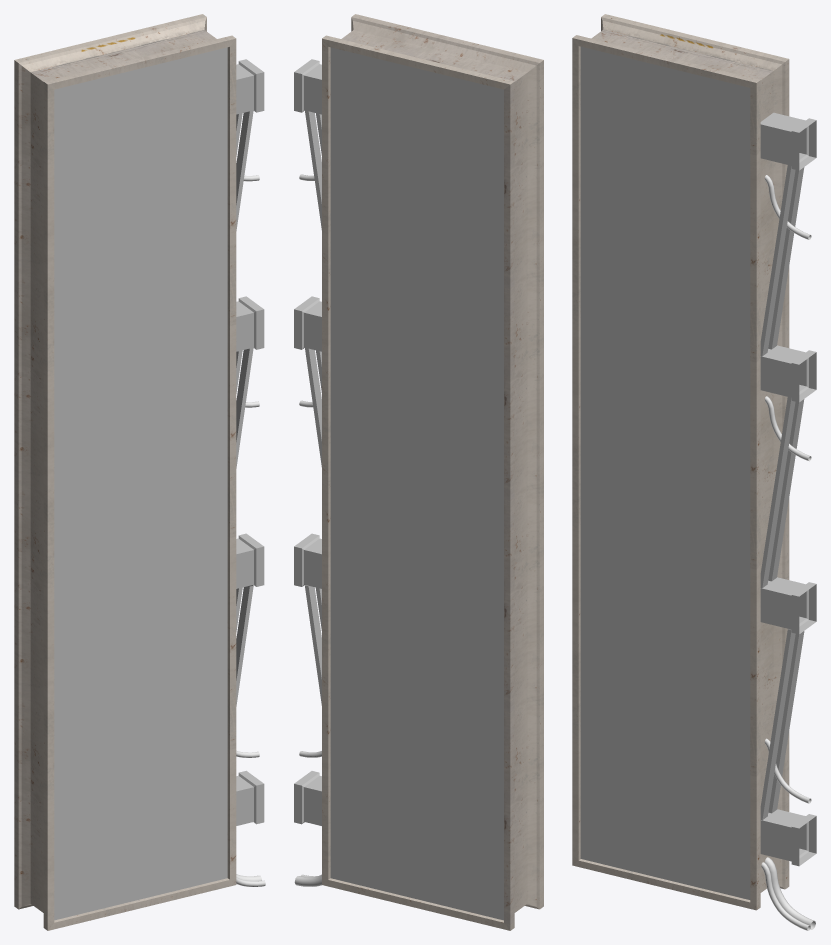
Rendered from KB3D_CBP_Billboard_D.fbx.
The picture shows the model from 3 angles, left to right: view 1: azimuth 30°, elevation 25°; view 2: azimuth 150°, elevation 25°; view 3: azimuth 330°, elevation 25°; orthographic projection. The views are drawn at different scales.
Visible parts, largest first — view 1: KB3D_CBP_Billboard_D_Main; view 2: KB3D_CBP_Billboard_D_Main; view 3: KB3D_CBP_Billboard_D_Main.
Part boxes in pixels (left/top/right/bottom): KB3D_CBP_Billboard_D_Main: left=14, top=14, right=265, bottom=930; KB3D_CBP_Billboard_D_Main: left=294, top=14, right=543, bottom=930; KB3D_CBP_Billboard_D_Main: left=572, top=14, right=816, bottom=930.
Bounding box in the file's own units: 341 × 1230 × 86.12.
